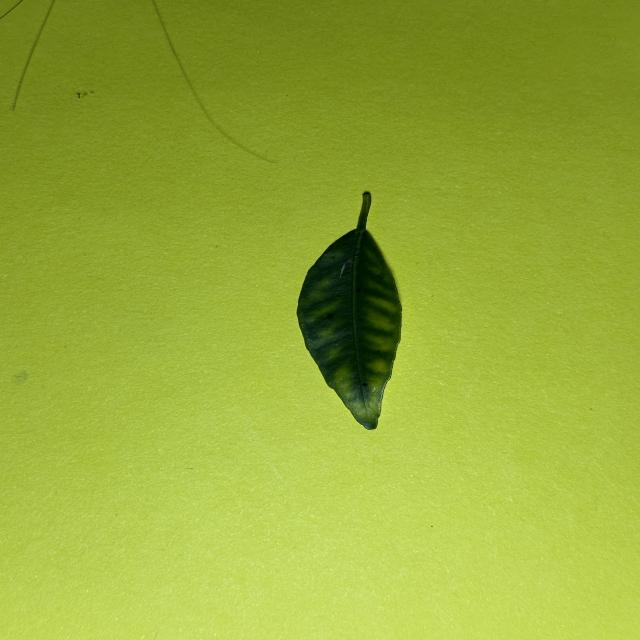greening: (297, 192, 401, 430)
